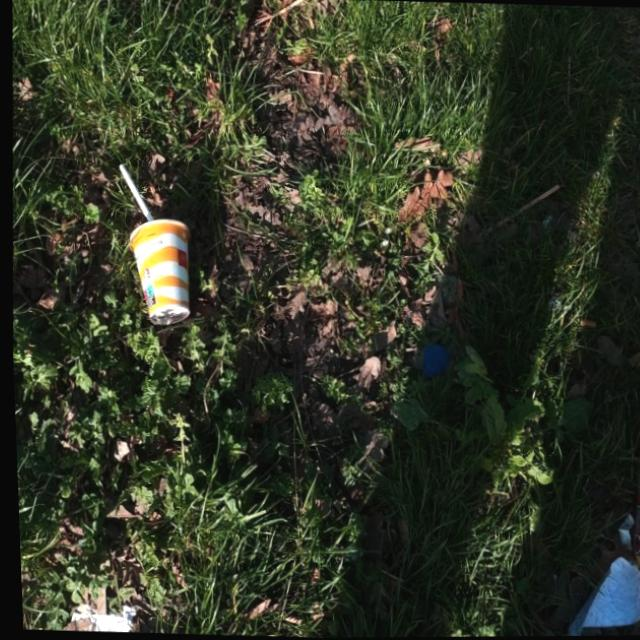Can-Metal: (619, 400, 640, 594)
Cup: (121, 215, 194, 327)
Paper: (557, 551, 640, 637), (62, 599, 132, 633)
